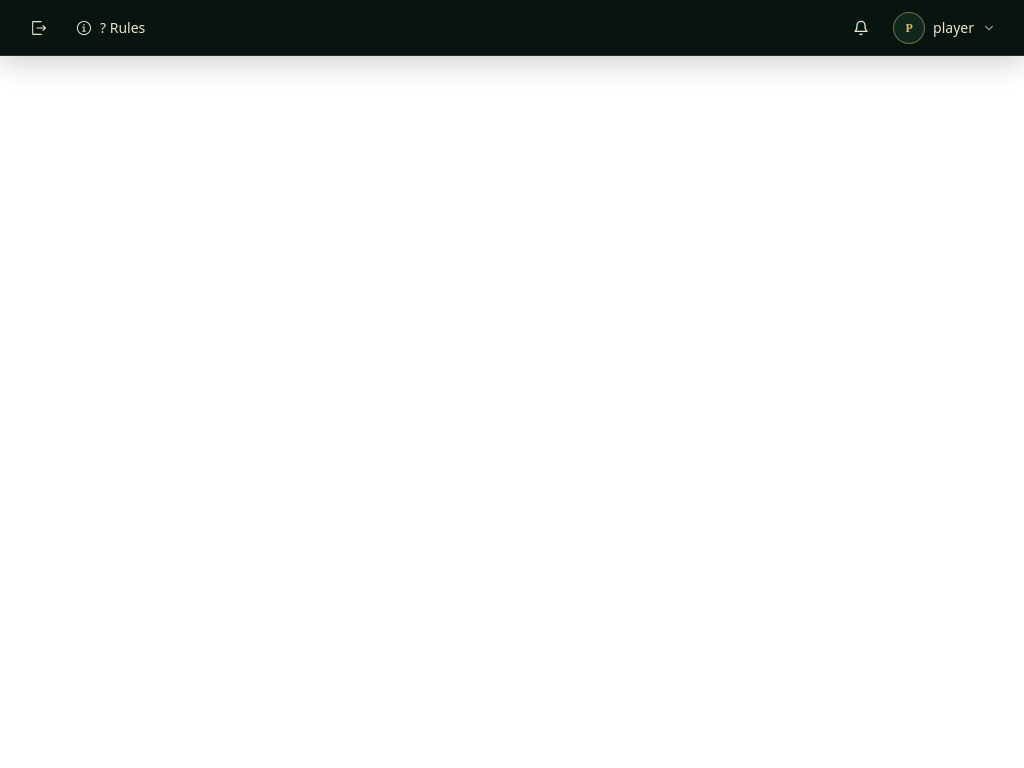
Test: leave game confirmation › opens the themed dialog and Stay in game closes it without leaving
This screenshot has width=1024, height=768.
Step 1. Click the button named "Leave game" → (38, 28), box 20,10 -> 56,46
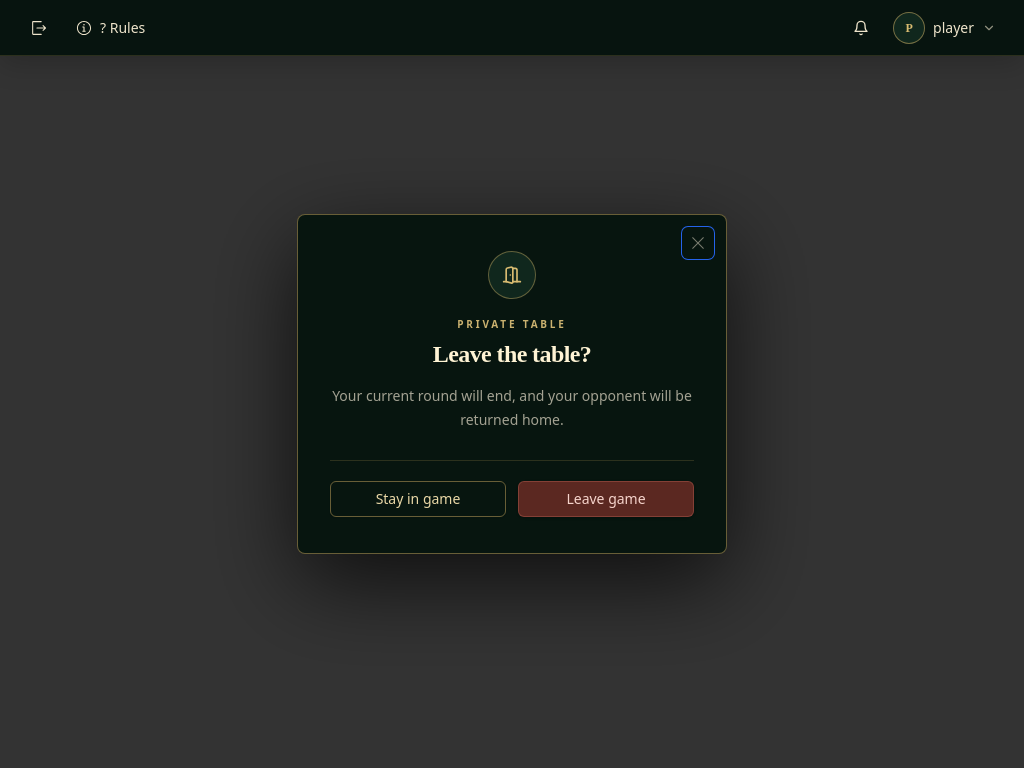
Expected: the dialog "Leave the table?" is shown, 297,214 -> 727,554
Expected: the text "Your current round will end" is shown, 332,386 -> 692,429
Step 2. Click the button "Stay in game" → (418, 499), box 330,481 -> 506,517
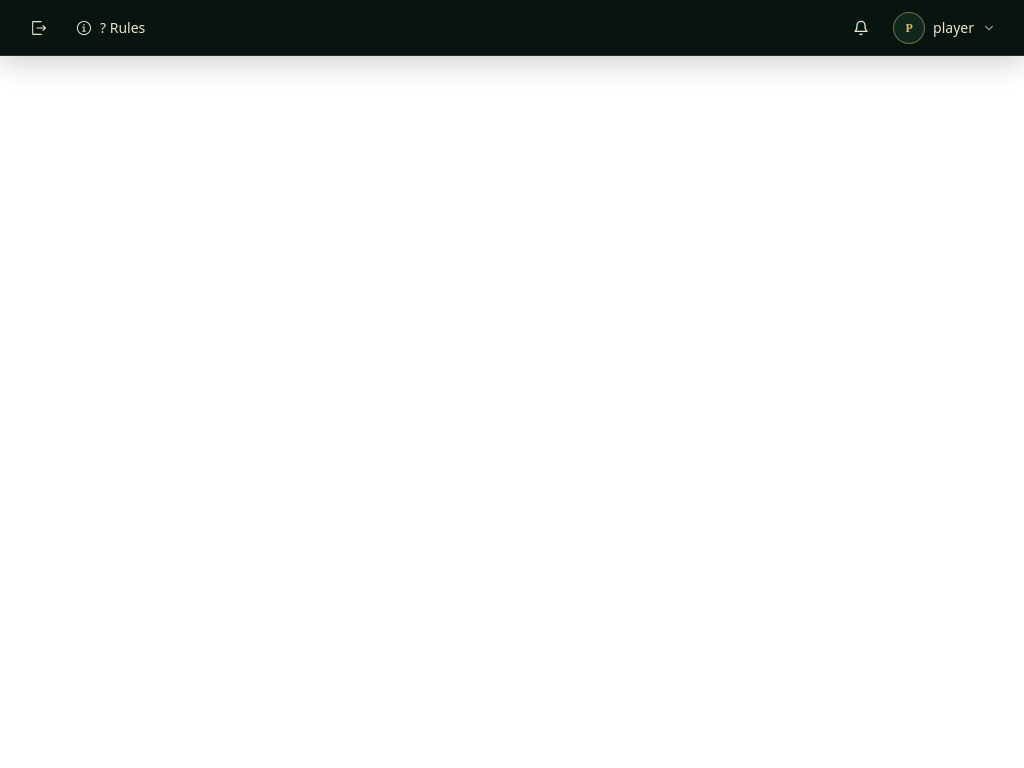
Expected: the heading "Leave the table?" is gone
